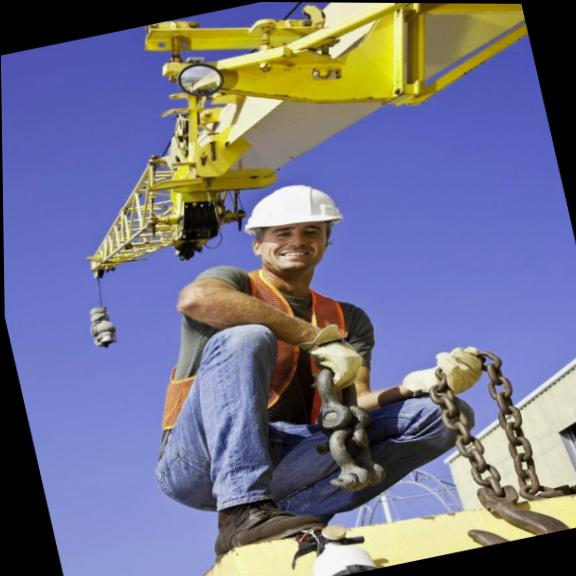no_safety_vest: (140, 249, 402, 455)
